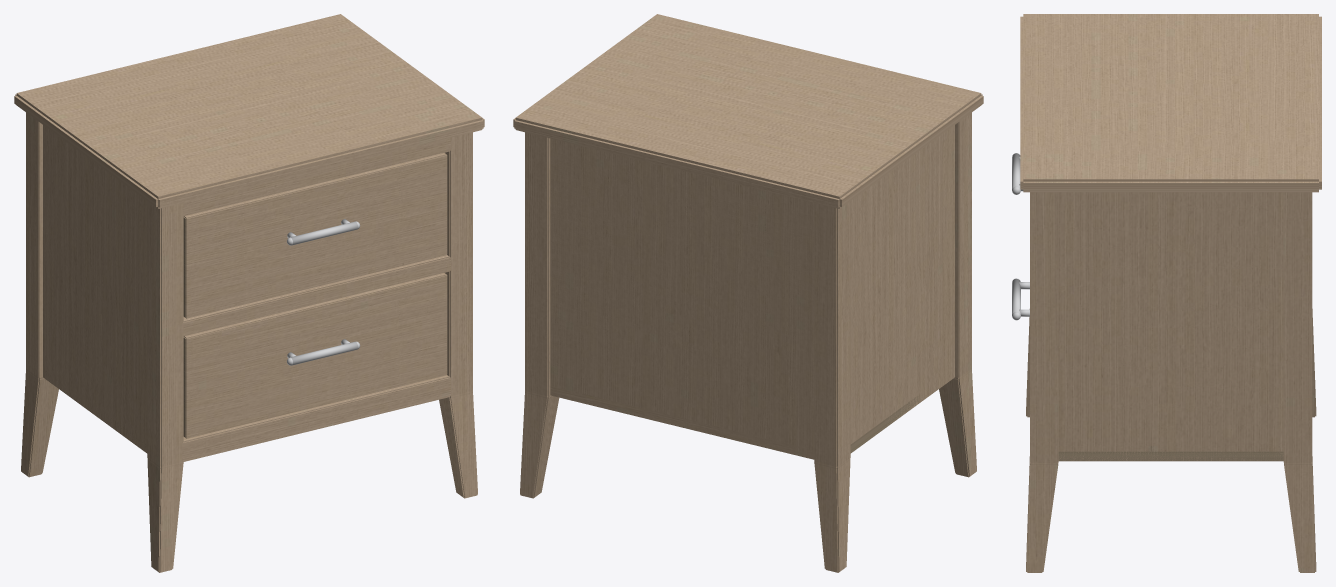
File: natural-oak-two-drawer-nightstand.glb
3 views of the same model, side by side, from view 1: azimuth 30°, elevation 25°; view 2: azimuth 150°, elevation 25°; view 3: azimuth 270°, elevation 25° (orthographic). The views are drawn at different scales.
Parts seen in each view (by area): view 1: top, front0, front1, side-1, leg-1-1, leg1-1, leg-11, apron, midrail, toprail, pull1, pull0; view 2: back, top, side-1, fill, leg-11, leg11, leg-1-1, bottom; view 3: side1, top, leg11, leg1-1, bottom, pull0.
Boxes of the visible parts, x1,y1,x2,y2 form: top: (14, 14, 484, 208); front0: (183, 273, 447, 438); front1: (183, 153, 447, 318); side-1: (43, 125, 147, 453); leg-1-1: (147, 201, 183, 572); leg1-1: (439, 132, 477, 498); leg-11: (21, 112, 58, 477); apron: (182, 375, 450, 461); midrail: (182, 255, 450, 336); toprail: (182, 137, 450, 216); pull1: (287, 219, 360, 245); pull0: (287, 339, 360, 365); back: (550, 138, 814, 459); top: (513, 14, 983, 208); side-1: (850, 125, 954, 444); fill: (551, 152, 813, 436); leg-11: (814, 201, 850, 572); leg11: (520, 132, 559, 498); leg-1-1: (939, 112, 976, 477); bottom: (550, 386, 924, 458); side1: (1058, 192, 1283, 461); top: (1020, 14, 1321, 192); leg11: (1283, 192, 1316, 572); leg1-1: (1026, 192, 1058, 572); bottom: (1058, 451, 1283, 461); pull0: (1012, 278, 1029, 320).
Bounding box in the file's own units: 0.5 × 0.55 × 0.3905.
3 materials, 2 textured.
